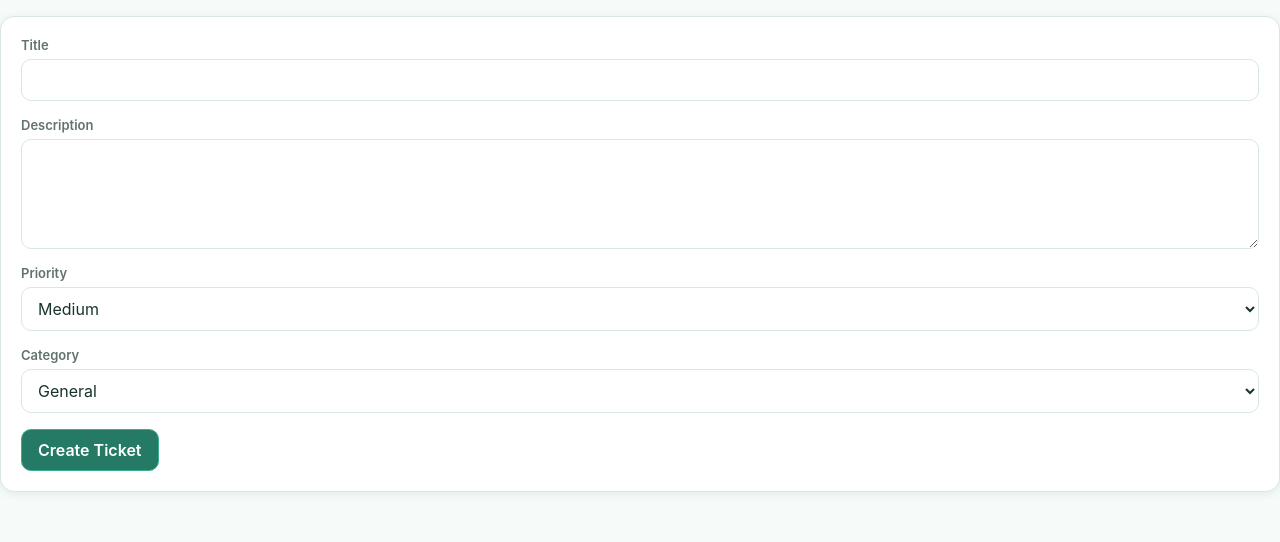
Scenario: TicketForm — create mode › marks the missing Description field as invalid and associates the error
This screenshot has width=1280, height=542.
Type "Some title" into the field labelled "Title". click: (640,80)
box: [21,59,1259,101]
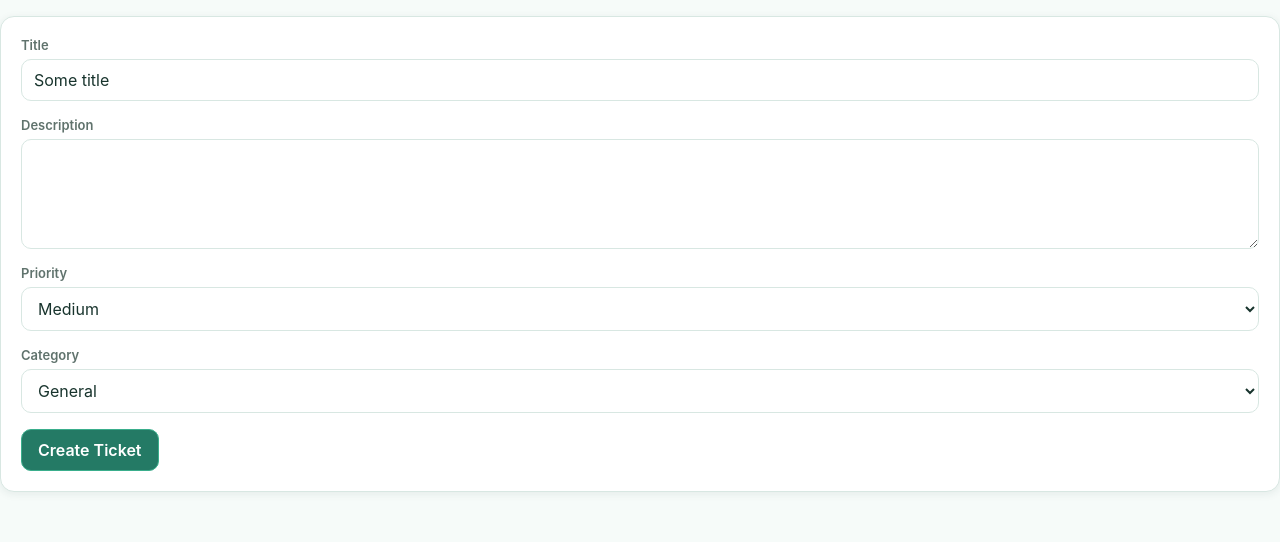
Click the button "Create Ticket". click: (90,450)
box: [21,429,158,471]
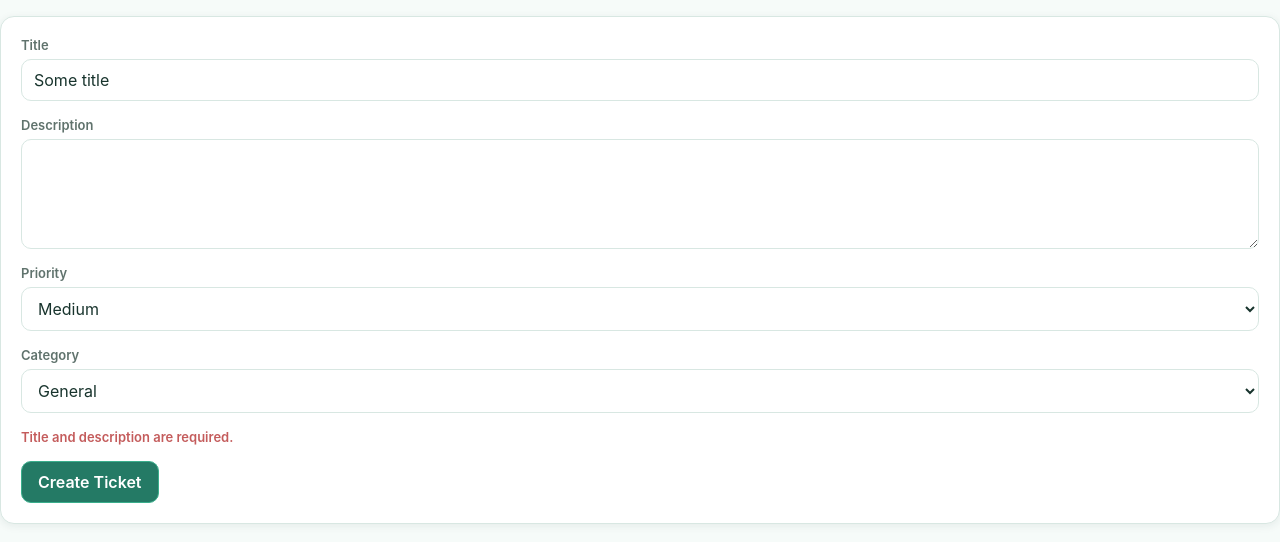
Expected: the message reads "Title and description are required.", [21,429,233,445]
